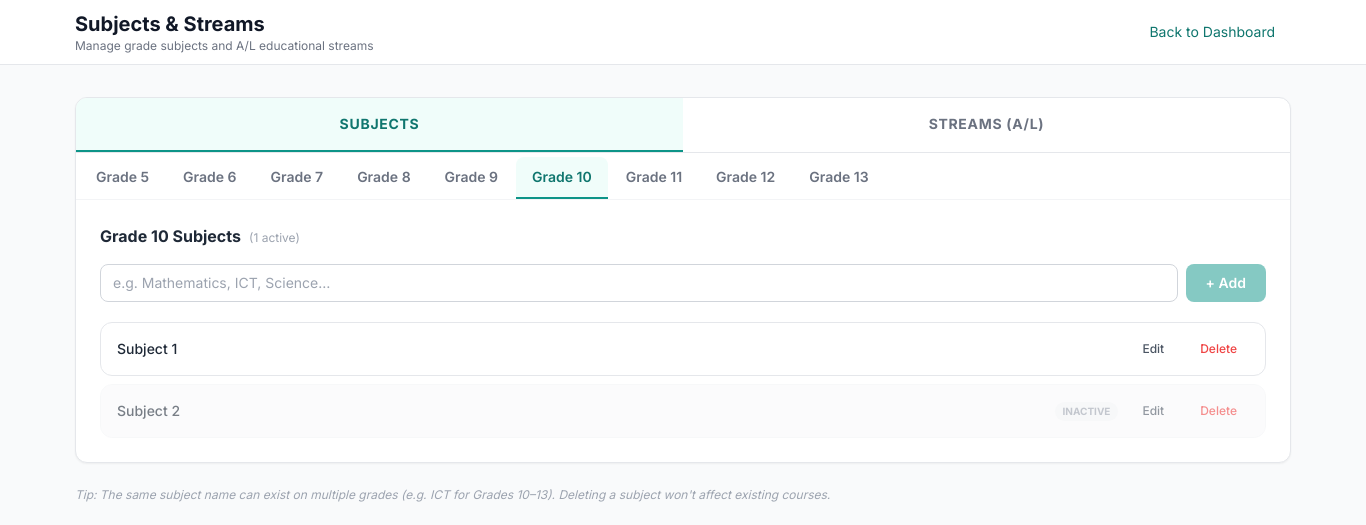
Subjects & streams › subjects tab › edits a subject name and status
Check: the text "Subject 1" is shown, box [117,340,177,357]
Click the button "Edit" in the row of "Subject 1" at (1153, 349), box [1130,335,1176,363]
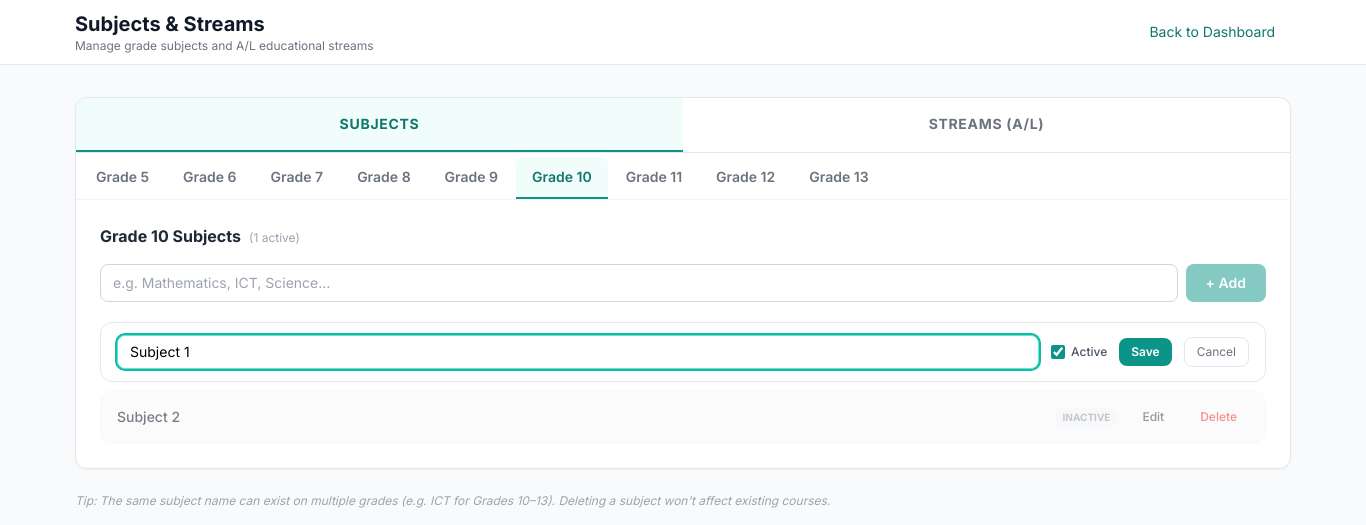
Replace the text in the field showing "Subject 1" with "Maths " at (578, 352), box [117,335,1039,369]
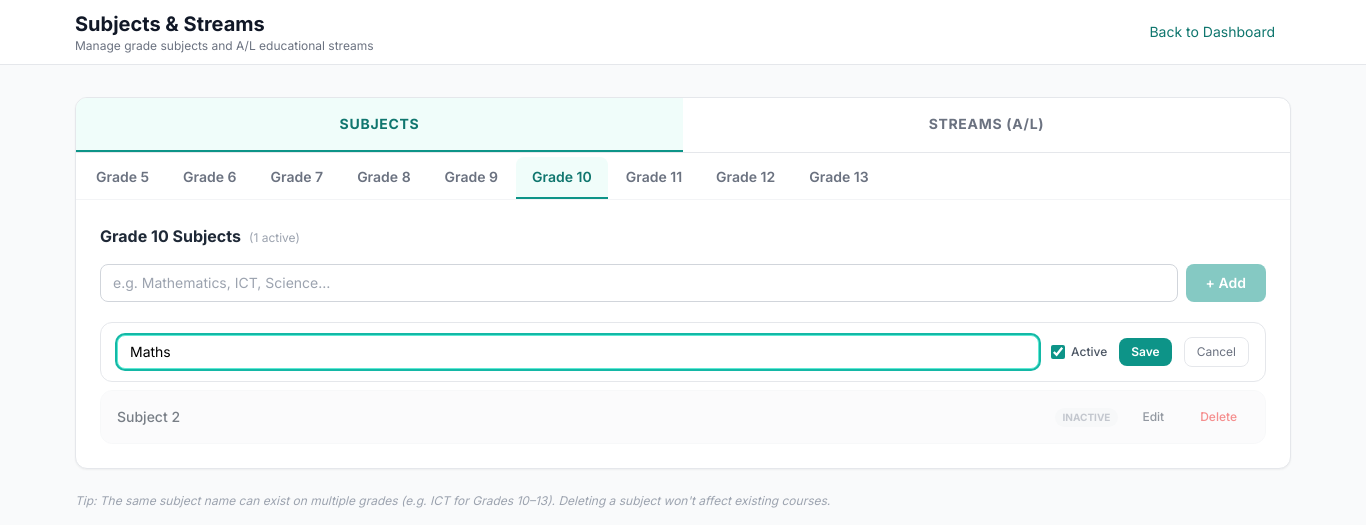
Click the checkbox labelled "Active" at (1058, 352), box [1051,345,1065,359]
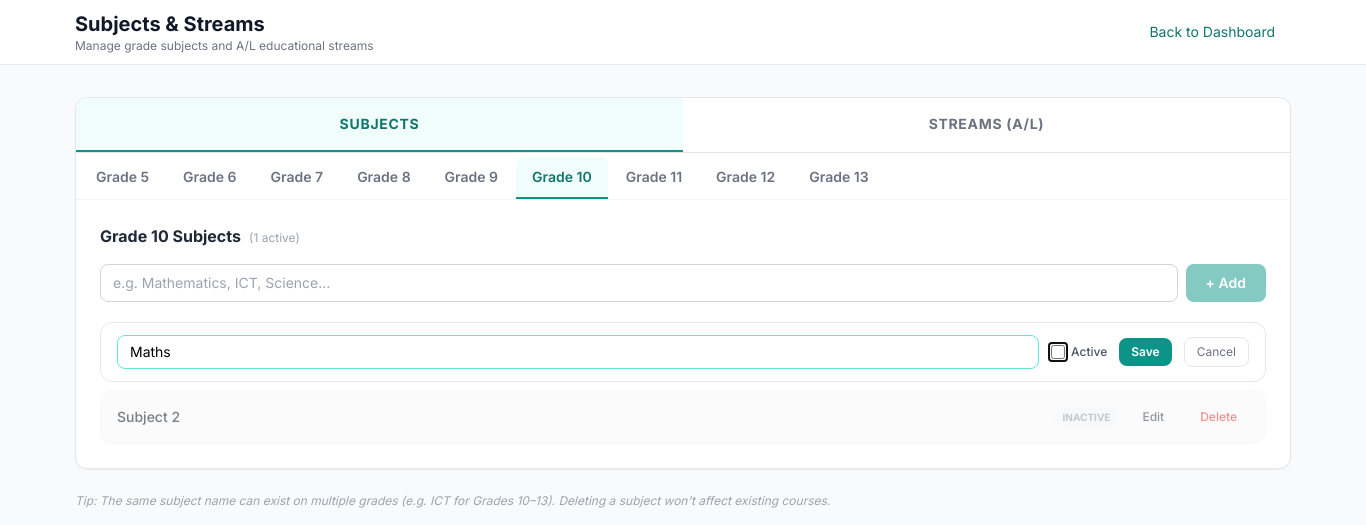
Click the button "Save" at (1145, 352), box [1119,338,1172,366]
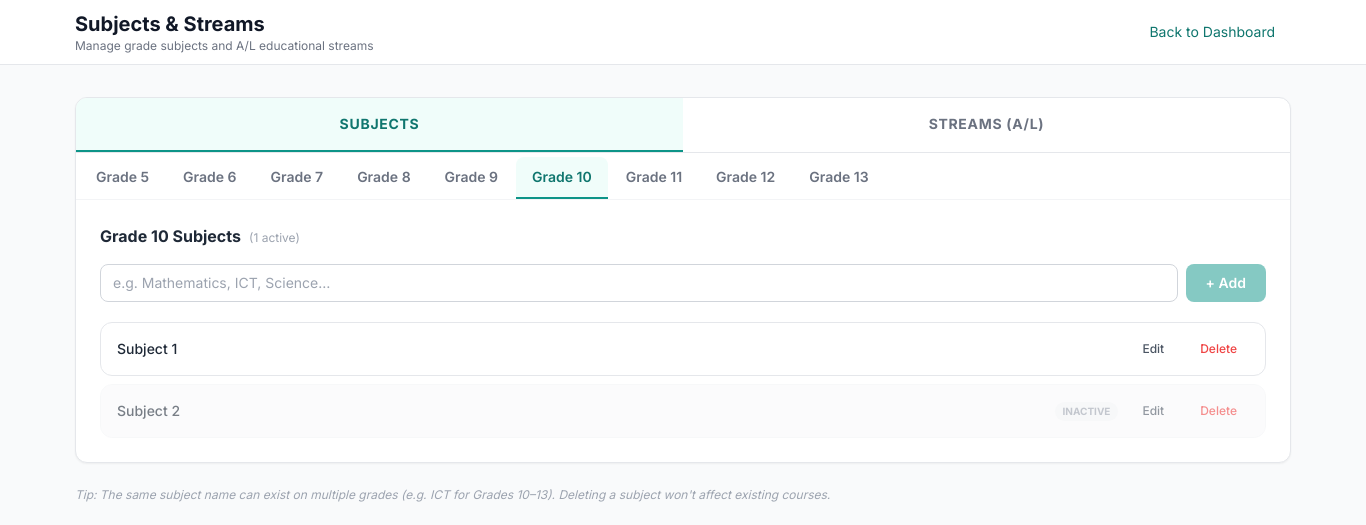
Check: the button "Save" is gone
